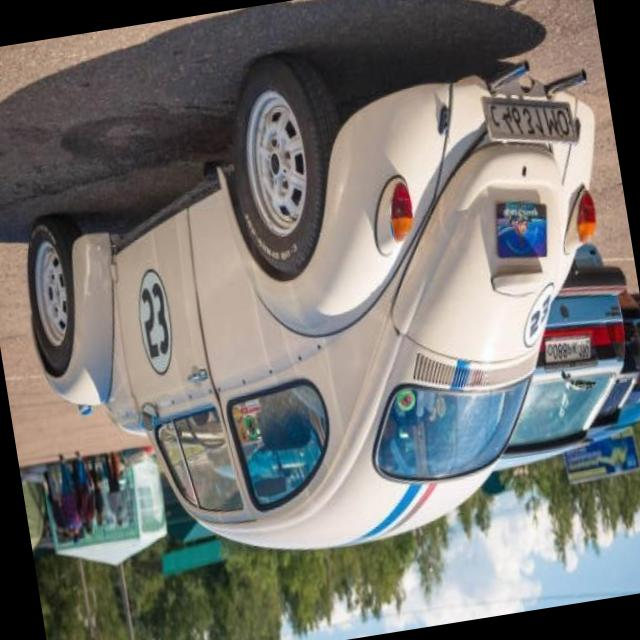car: (0, 30, 640, 585)
